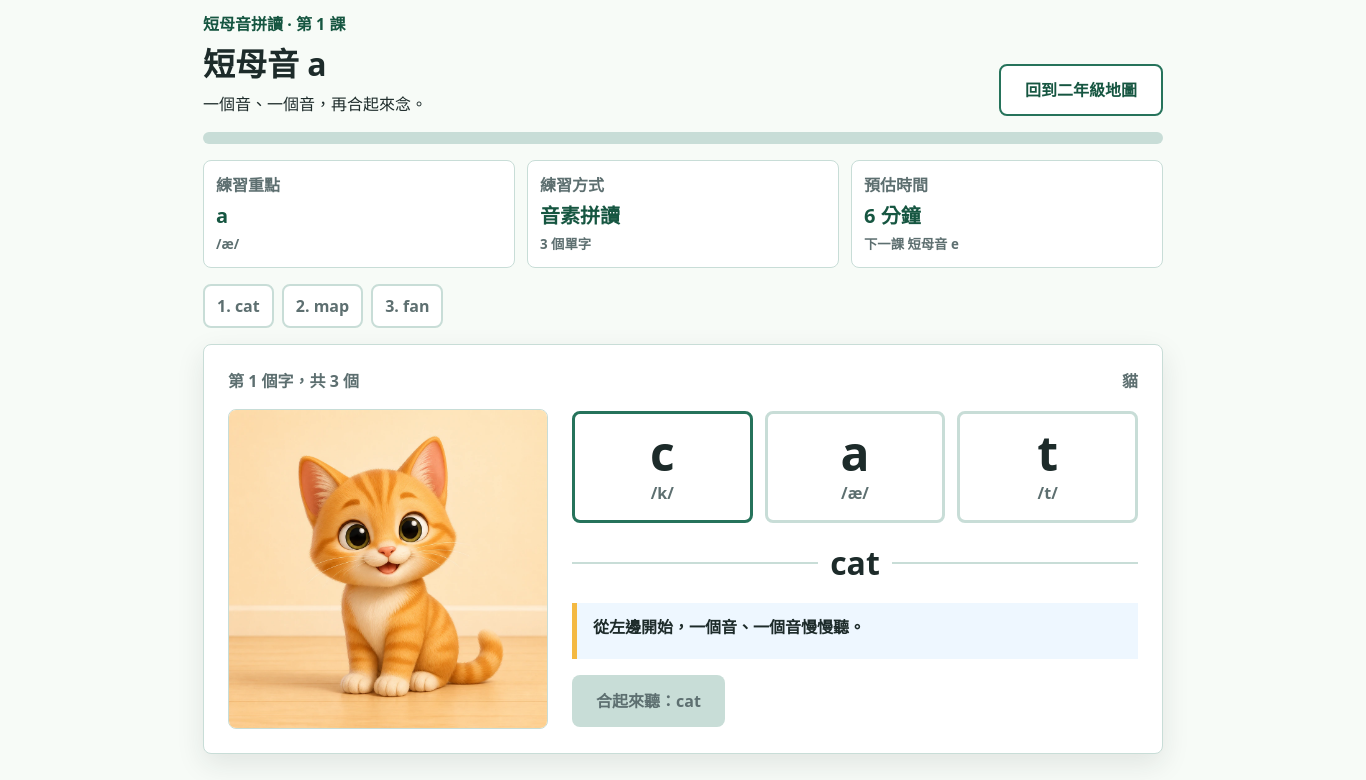
Test: ShortVowelLessonPage › 先顯示 cat，並依序開放三個音段與合音
This screenshot has width=1366, height=780.
Expected: the button named "播放 a 的聲音" is disabled, 765,411 -> 945,523
Expected: the button named "播放 t 的聲音" is disabled, 957,411 -> 1138,523
Click the button named "播放 c 的聲音": (662, 467) 572,411 -> 753,523
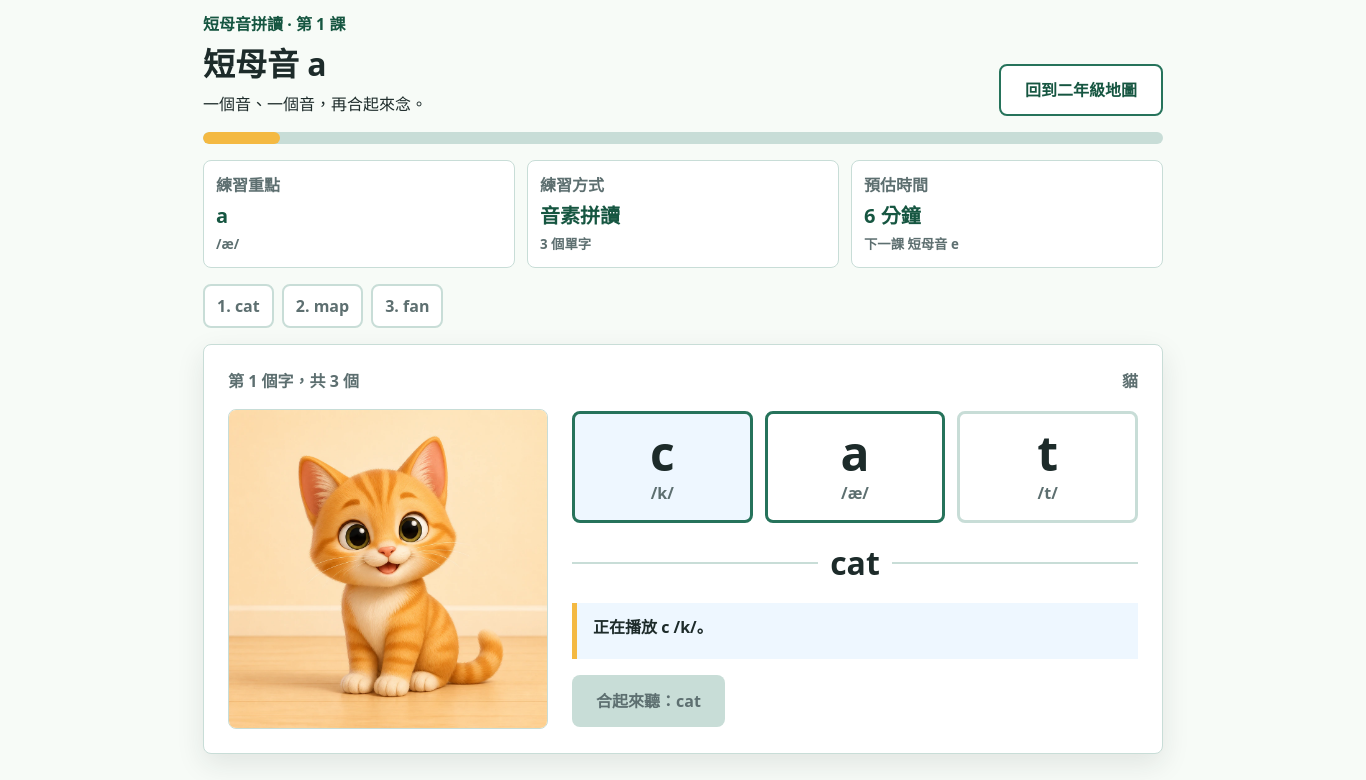
Result: the button named "播放 a 的聲音" is enabled
Click the button named "播放 a 的聲音": (855, 467) 765,411 -> 945,523
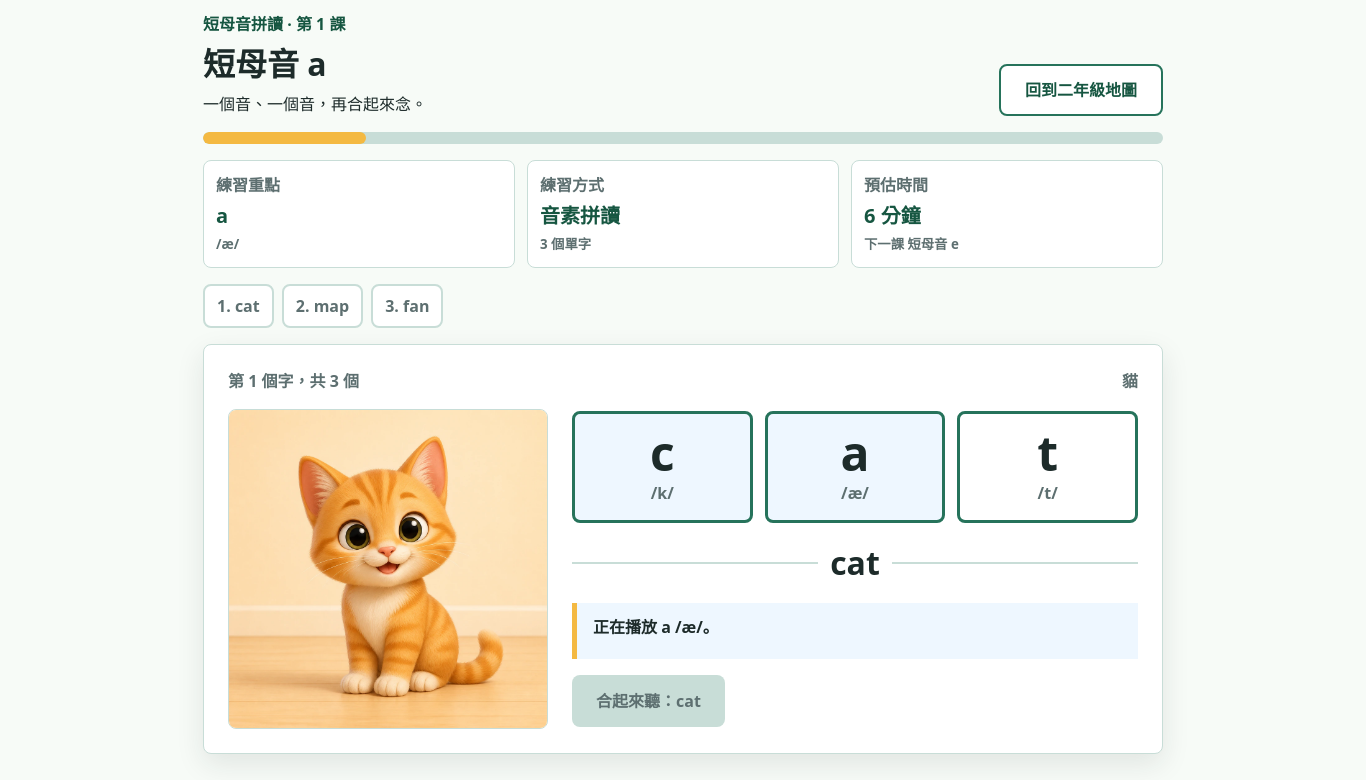
Result: the button named "播放 t 的聲音" is enabled
Click the button named "播放 t 的聲音": (1048, 467) 957,411 -> 1138,523
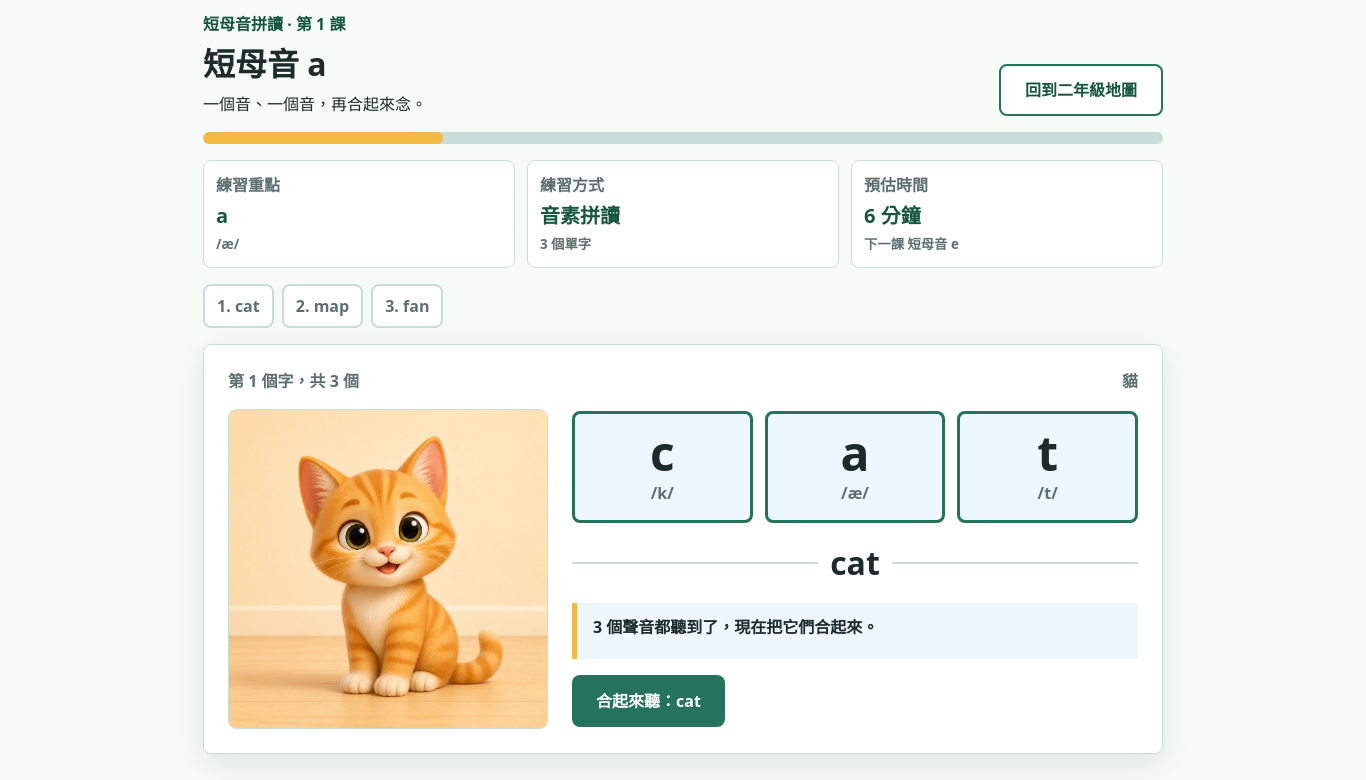
Result: the button "合起來聽：cat" is enabled
Click the button "合起來聽：cat": (648, 701) 572,675 -> 725,727
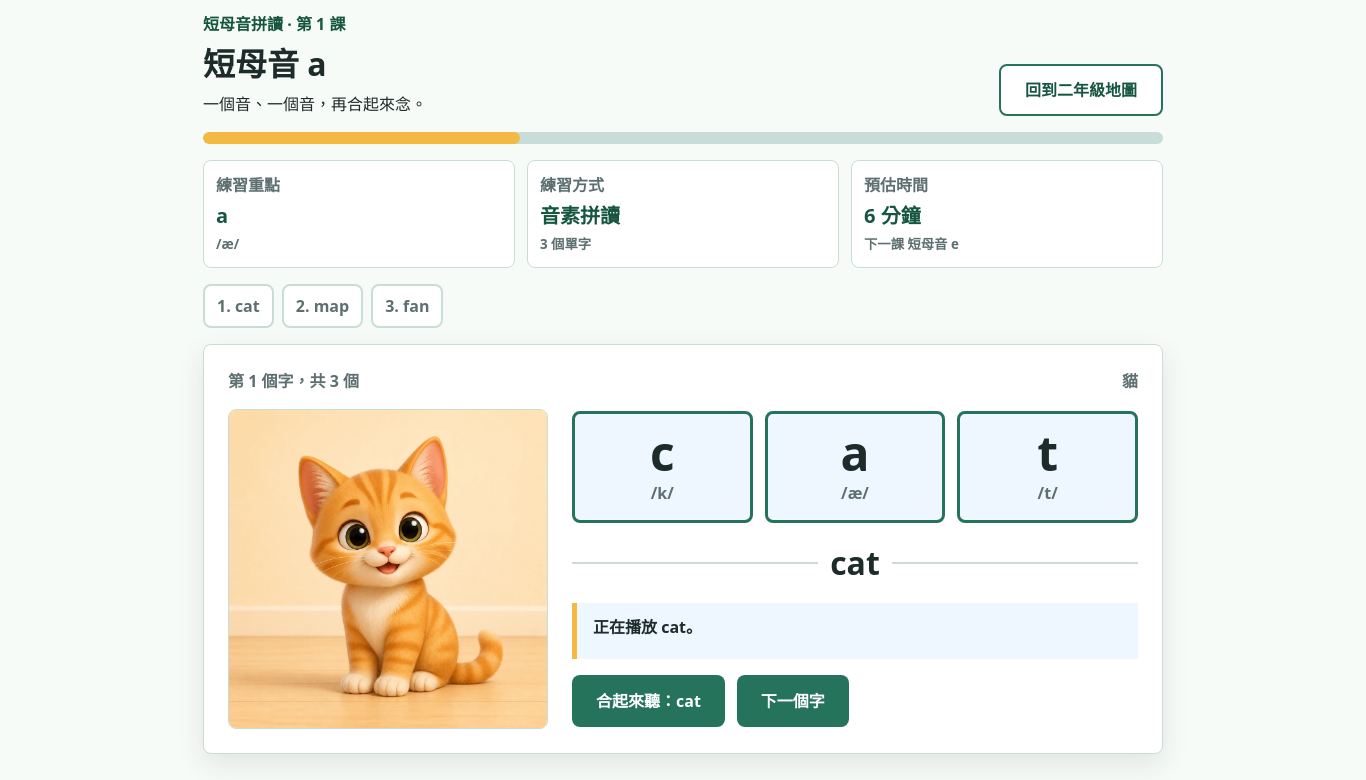
Result: the button "下一個字" is shown at 737,675 -> 849,727
Result: the message reads "正在播放 cat。" at 593,616 -> 702,638
